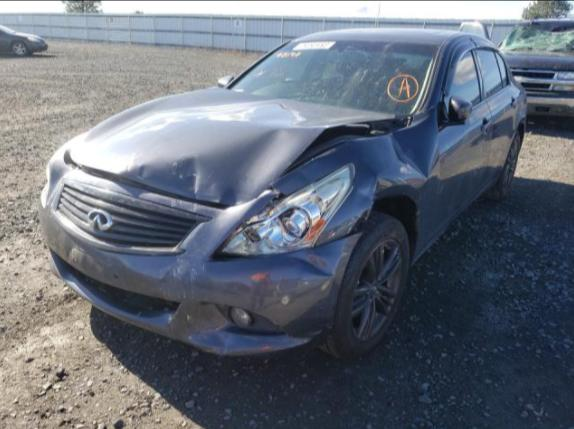Broken part: (255, 114, 420, 217), (62, 144, 250, 212), (219, 167, 352, 255), (206, 207, 371, 264)
Dent: (70, 86, 409, 205), (97, 185, 271, 253), (200, 239, 348, 284), (388, 106, 441, 215), (274, 147, 343, 194), (344, 170, 403, 214), (65, 233, 115, 274), (111, 254, 177, 278), (190, 303, 223, 339), (220, 283, 253, 307), (209, 331, 230, 352)
Missing part: (112, 273, 119, 278)
Paint chip: (172, 257, 186, 278), (190, 267, 198, 301), (170, 197, 183, 205), (187, 315, 191, 329)
Scratch: (319, 251, 347, 294), (127, 165, 145, 180), (191, 170, 200, 196), (398, 162, 416, 174), (279, 293, 291, 305), (172, 161, 179, 175)
